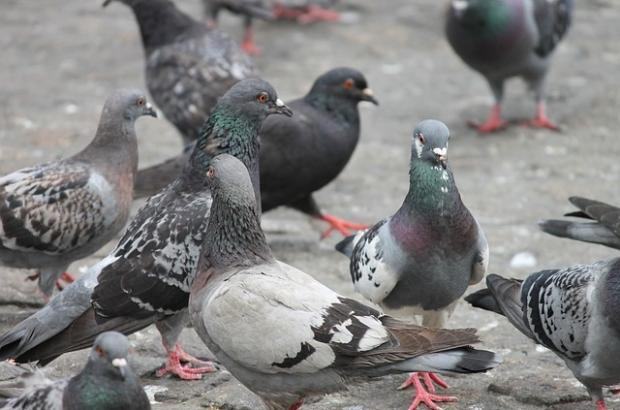Flying Rat: (90, 77, 290, 345), (201, 167, 403, 399), (484, 186, 620, 410), (1, 84, 138, 281), (358, 118, 473, 318), (265, 49, 386, 218), (435, 1, 580, 138), (16, 327, 137, 410)
